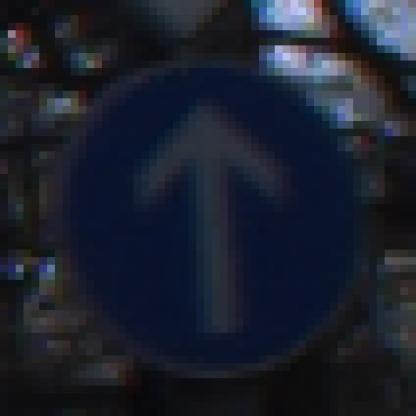AheadOnly: (48, 47, 378, 380)
